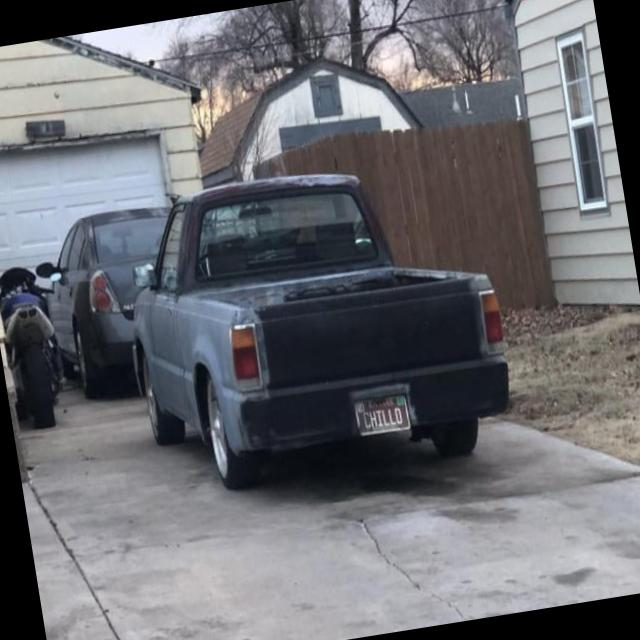LicensePlate: (354, 393, 413, 437)
